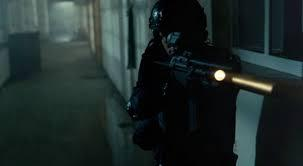rifle: (151, 53, 280, 132)
